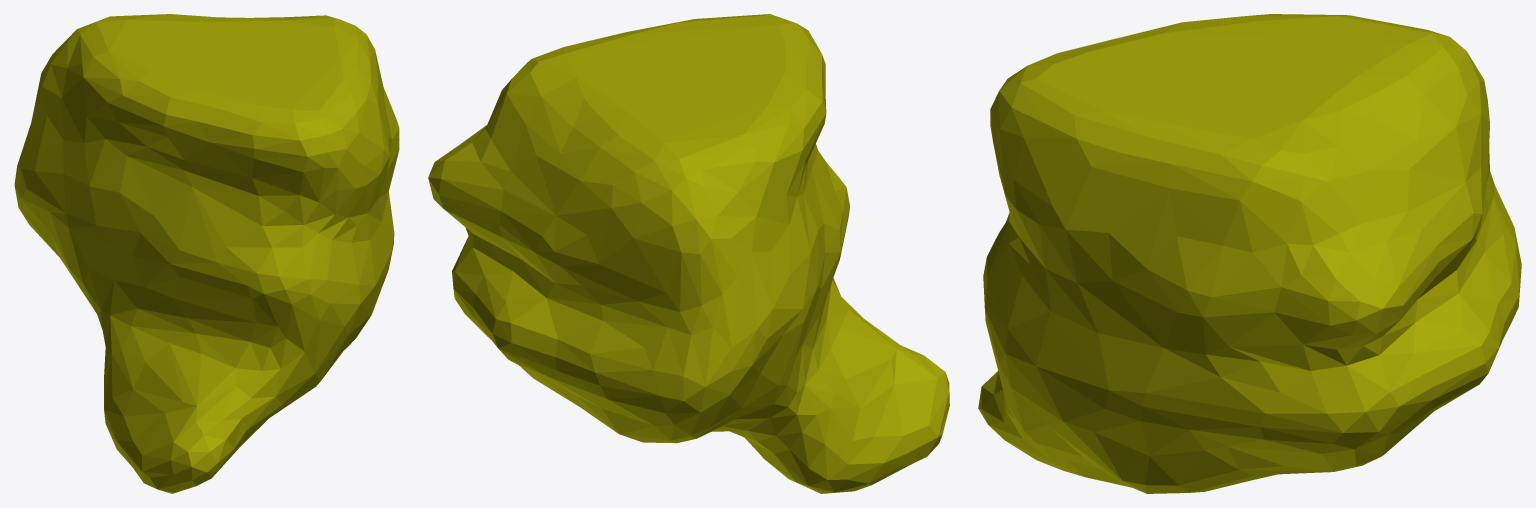
File: SpC.obj
3 renders of one model, left to right at view 1: azimuth 30°, elevation 25°; view 2: azimuth 150°, elevation 25°; view 3: azimuth 270°, elevation 25°, orthographic. The views are drawn at different scales.
Visible parts, largest first — view 1: SpC_SpC.002; view 2: SpC_SpC.002; view 3: SpC_SpC.002.
Boxes of the visible parts, bbox=[...] form: SpC_SpC.002: bbox=[14, 14, 399, 493]; SpC_SpC.002: bbox=[428, 14, 949, 493]; SpC_SpC.002: bbox=[978, 14, 1521, 493].
Bounding box in the file's own units: 1.53 × 1.53 × 1.58.
